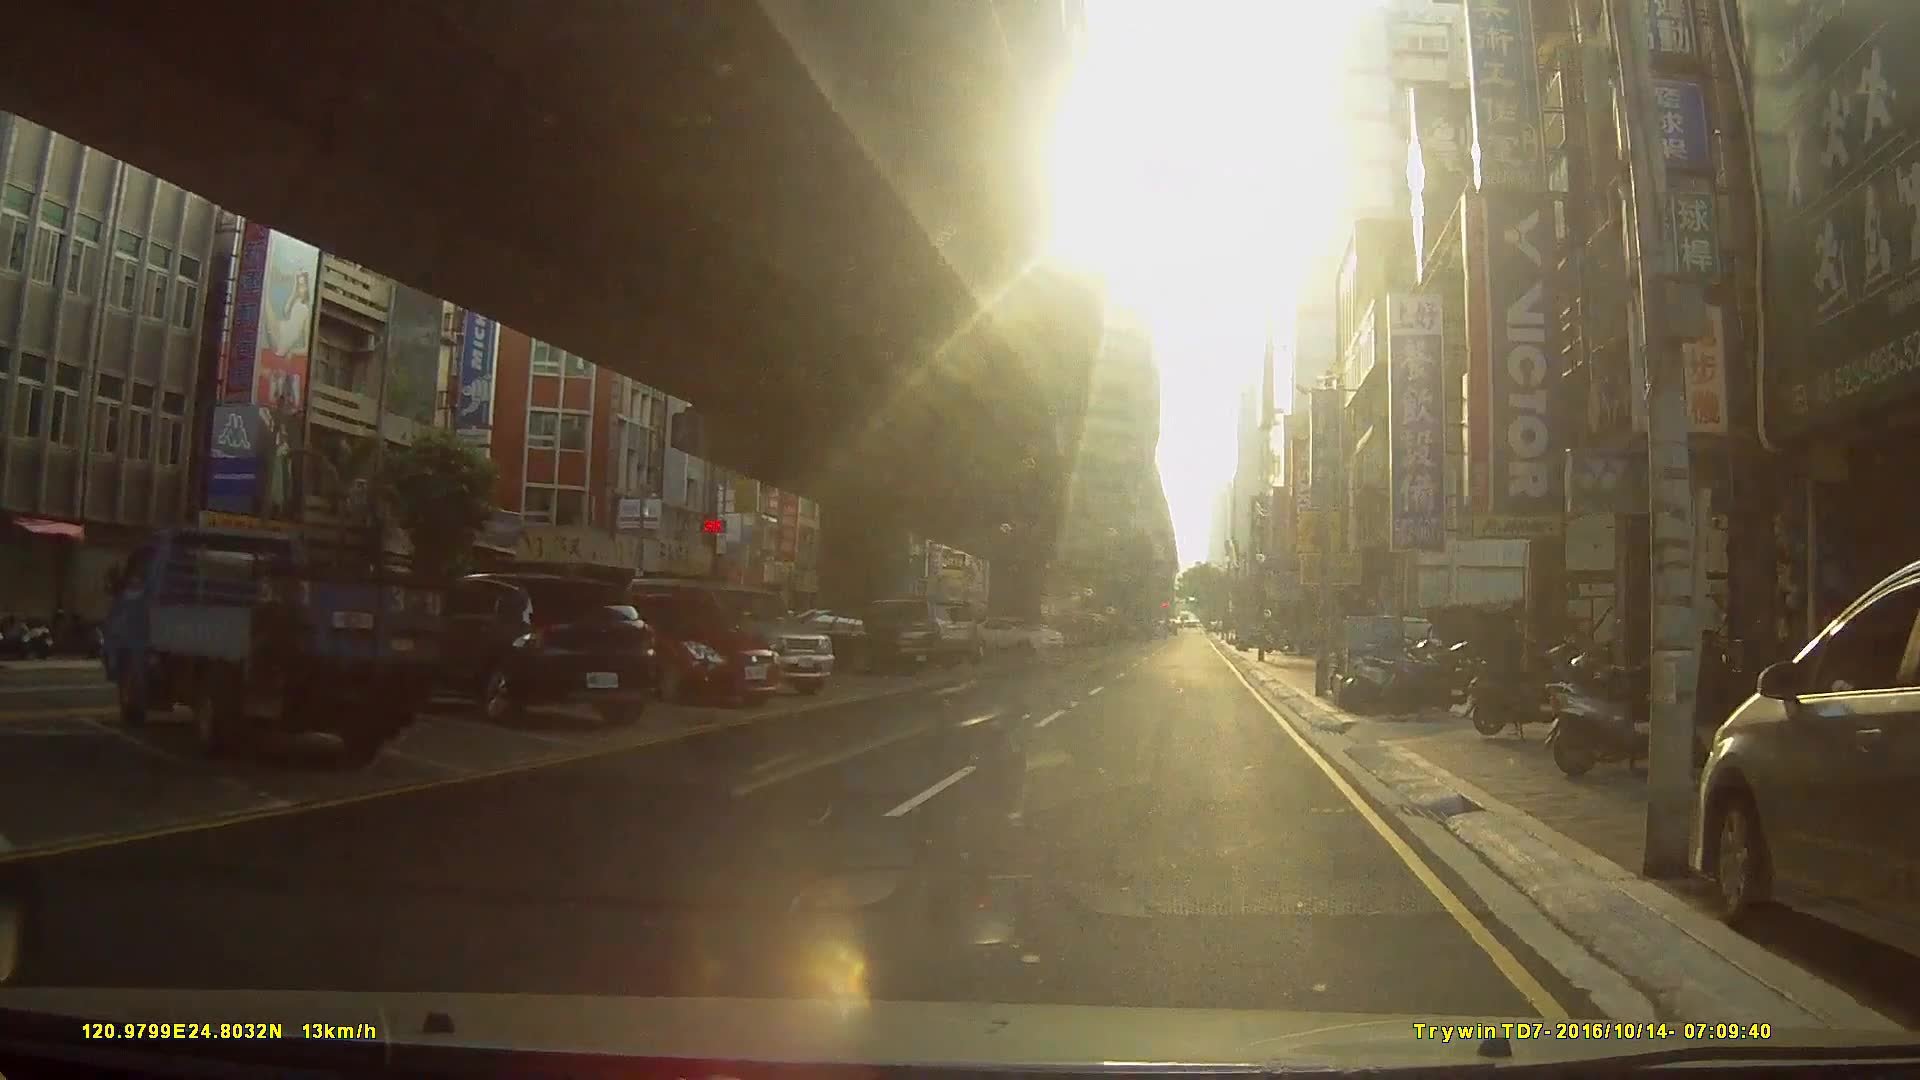vehicle: (1693, 556, 1920, 965), (94, 527, 456, 764), (400, 568, 655, 728), (618, 578, 833, 698), (585, 589, 783, 708), (765, 607, 930, 675), (844, 596, 981, 665), (973, 615, 1063, 654)
